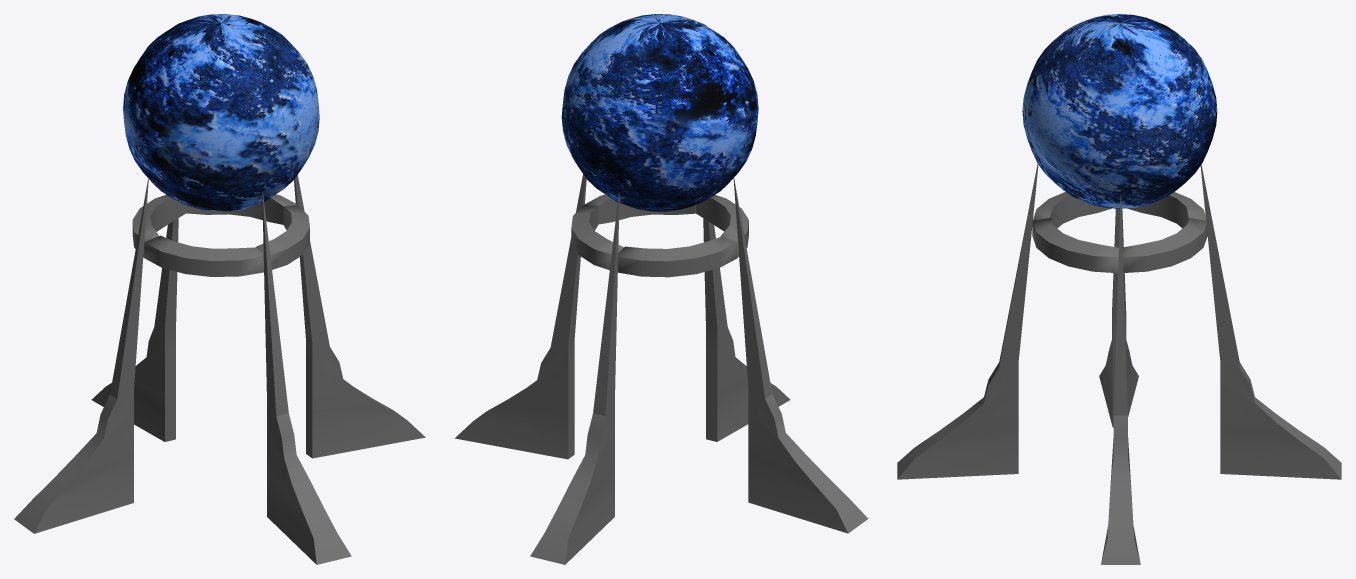
Rendered from Orb Tower.fbx.
3 views of the same model, side by side, from view 1: azimuth 30°, elevation 25°; view 2: azimuth 150°, elevation 25°; view 3: azimuth 270°, elevation 25° (orthographic).
Visible parts, largest first — view 1: Core, Leg3, Leg1, Leg, Leg2, Middle3, Middle, Middle2, Middle1; view 2: Core, Leg3, Leg1, Leg2, Leg, Middle2, Middle1, Middle3, Middle; view 3: Core, Leg, Leg2, Leg1, Middle, Middle1, Leg3, Middle2, Middle3.
Part boxes in pixels (bbox=[...]): Core: bbox=[123, 14, 319, 211]; Leg3: bbox=[14, 177, 148, 533]; Leg1: bbox=[294, 175, 425, 458]; Leg: bbox=[262, 192, 351, 564]; Leg2: bbox=[91, 218, 178, 441]; Middle3: bbox=[144, 235, 263, 276]; Middle: bbox=[256, 205, 309, 269]; Middle2: bbox=[132, 194, 186, 257]; Middle1: bbox=[186, 194, 296, 224]; Core: bbox=[561, 14, 758, 211]; Leg3: bbox=[733, 176, 868, 533]; Leg1: bbox=[454, 174, 586, 459]; Leg2: bbox=[530, 193, 619, 564]; Leg: bbox=[703, 218, 790, 441]; Middle2: bbox=[617, 236, 737, 277]; Middle1: bbox=[571, 205, 623, 269]; Middle3: bbox=[696, 195, 748, 257]; Middle: bbox=[585, 194, 696, 224]; Core: bbox=[1022, 14, 1217, 208]; Leg: bbox=[897, 164, 1038, 479]; Leg2: bbox=[1200, 164, 1341, 479]; Leg1: bbox=[1101, 194, 1140, 564]; Middle: bbox=[1032, 218, 1118, 273]; Middle1: bbox=[1122, 218, 1207, 272]; Leg3: bbox=[1099, 208, 1138, 427]; Middle2: bbox=[1127, 192, 1205, 228]; Middle3: bbox=[1032, 192, 1111, 235].
Size of the model in its own units: 73.15 by 80.99 by 72.76.
2 materials, 1 textured.
